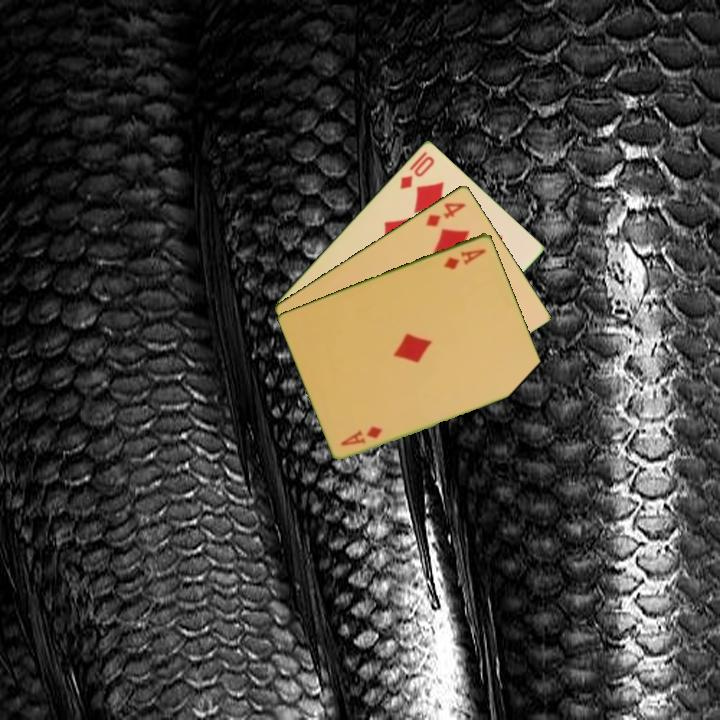10d: (396, 152, 437, 192)
4d: (422, 199, 469, 229)
Ad: (440, 245, 489, 272), (337, 422, 385, 448)
